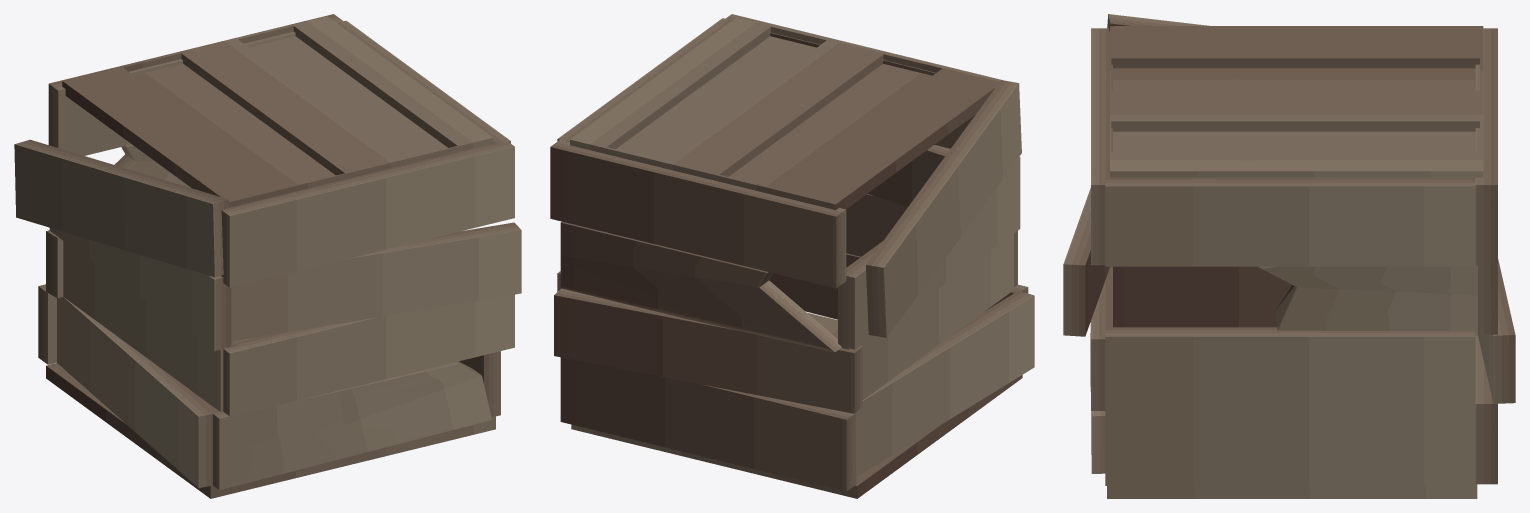
The model's file is DL_Obj_Level5_OldCrate.fbx.
3 views of the same model, side by side, from view 1: azimuth 30°, elevation 25°; view 2: azimuth 150°, elevation 25°; view 3: azimuth 270°, elevation 25° (orthographic). The views are drawn at different scales.
Visible parts, largest first — view 1: Level5_OldCrate; view 2: Level5_OldCrate; view 3: Level5_OldCrate.
Boxes of the visible parts, left/top/right/bottom form: Level5_OldCrate: left=14, top=14, right=521, bottom=498; Level5_OldCrate: left=550, top=14, right=1034, bottom=498; Level5_OldCrate: left=1063, top=14, right=1515, bottom=498.
Size of the model in its own units: 94.65 by 80.69 by 100.
